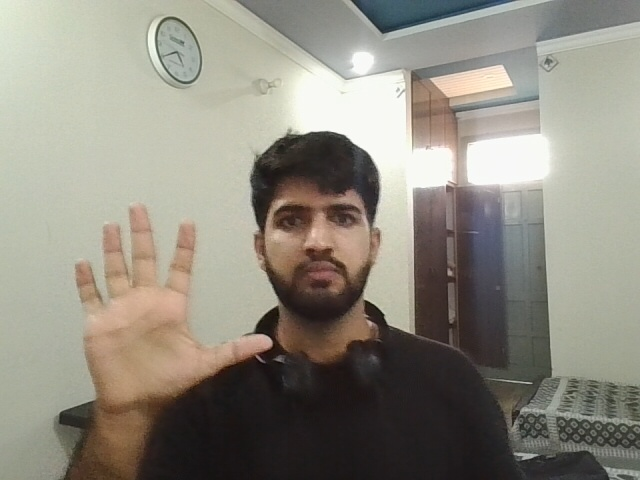Hello: (53, 182, 280, 404)
